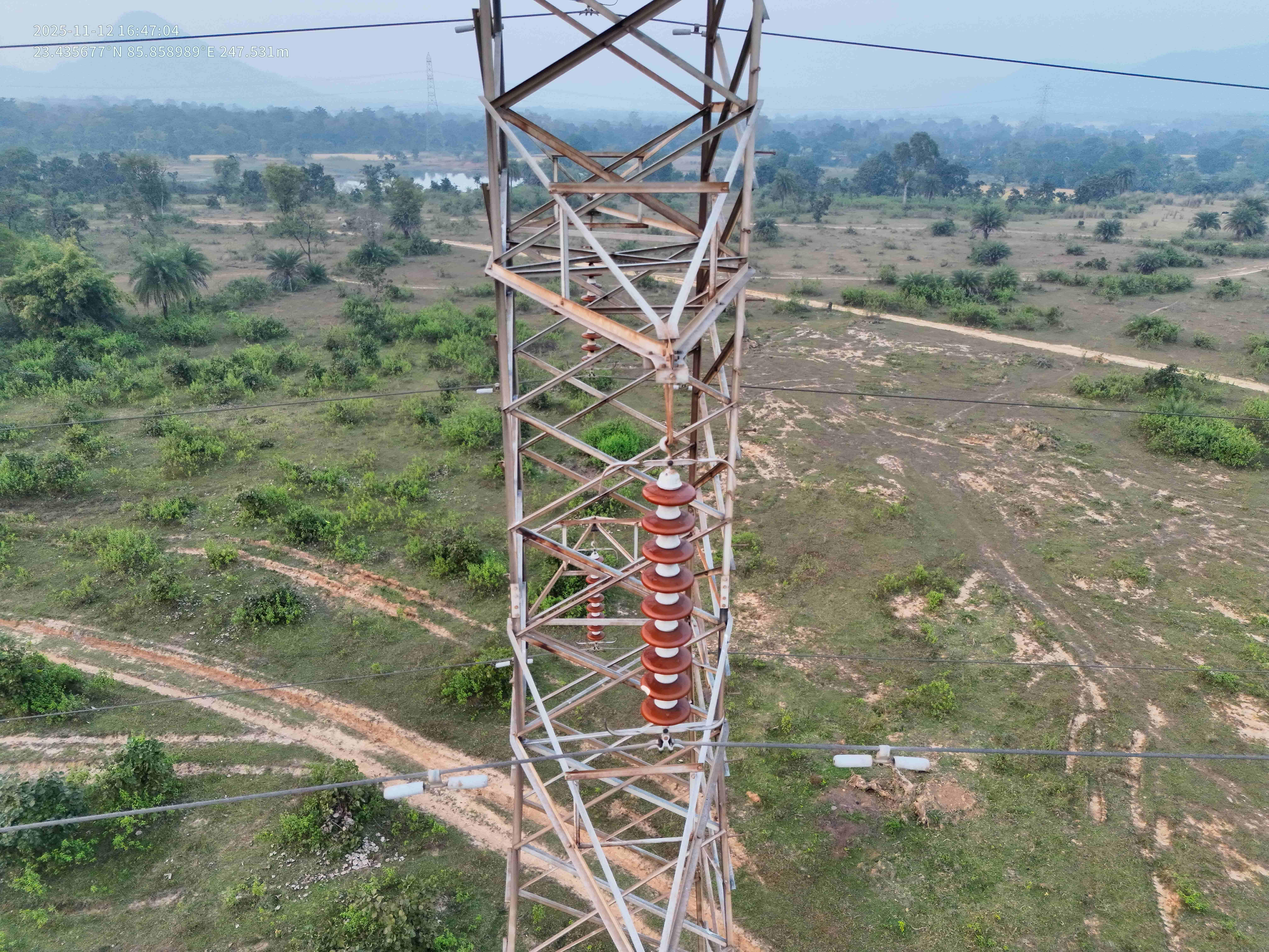broken_insulator: (639, 673, 691, 702)
